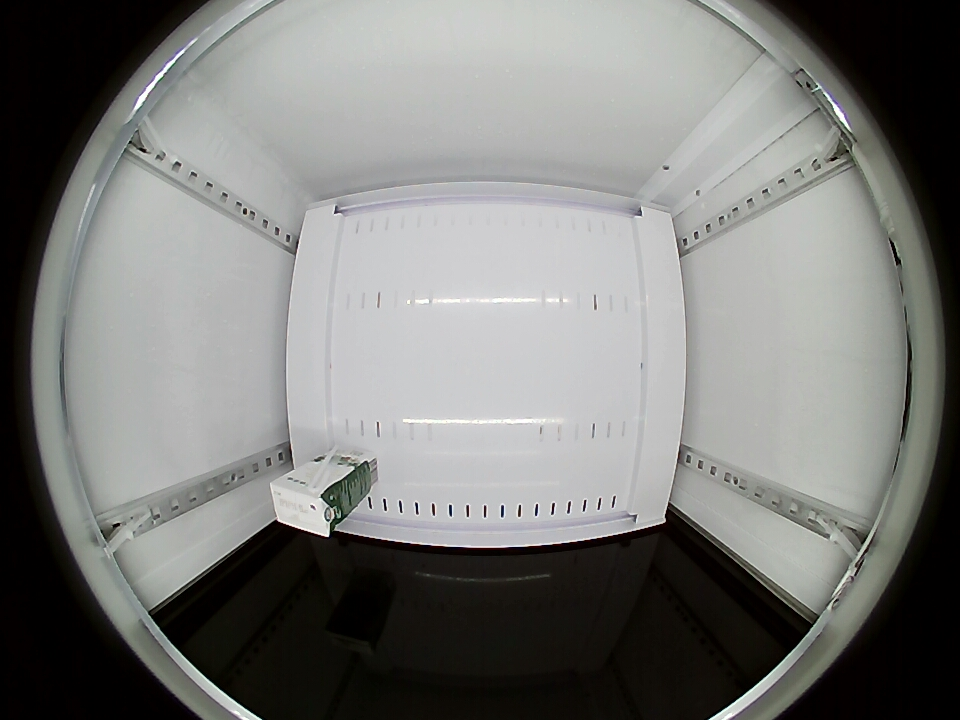jindian: (269, 471, 344, 538)
